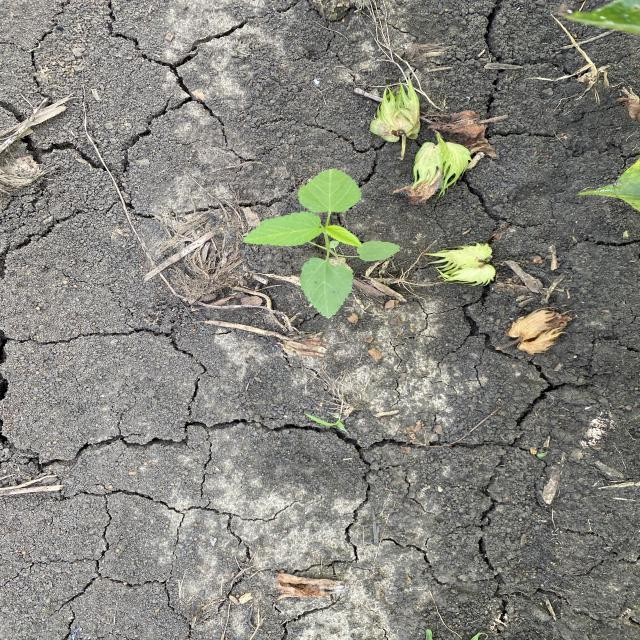PricklySida: (240, 166, 404, 321)
